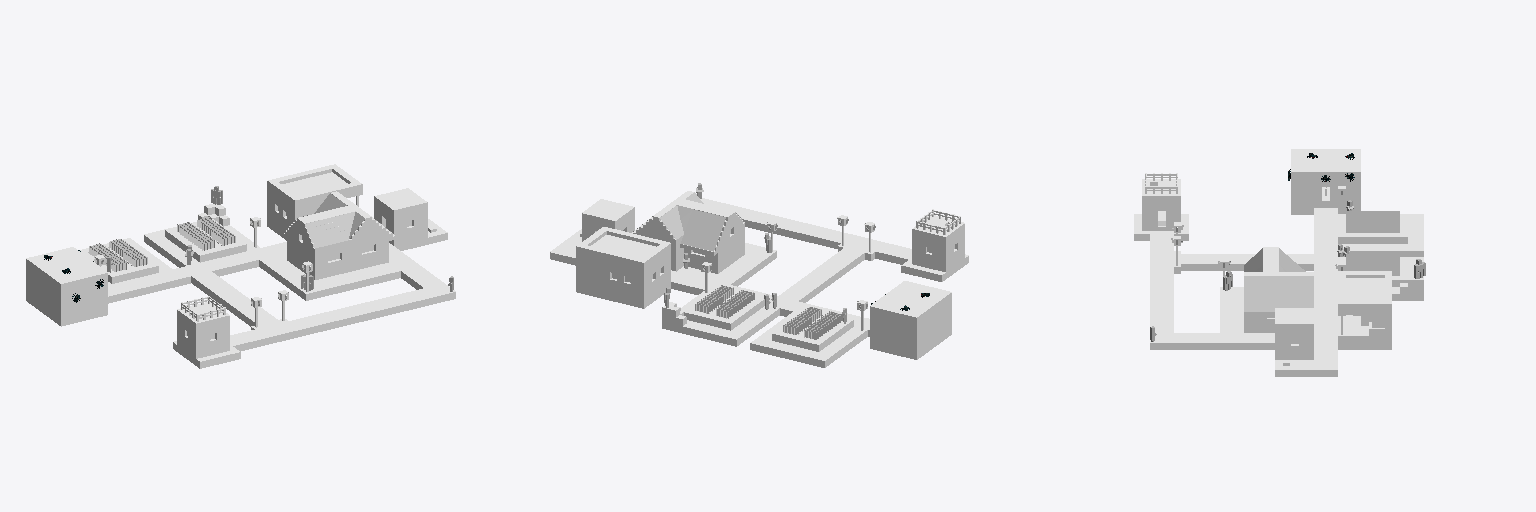
3 renders of one model, left to right at view 1: azimuth 30°, elevation 25°; view 2: azimuth 150°, elevation 25°; view 3: azimuth 270°, elevation 25°, orthographic.
Visible parts, largest first — view 1: village_pixel_New_World-------__151_3_644_to_211_319_684.001, rampa5_invis_Prostokąt.005, siano_pixel_nocol_New_World-------__151_3_644_to_211_319_684.00, siano2_pixel_nocol_New_World-------__151_3_644_to_211_319_684.0; view 2: village_pixel_New_World-------__151_3_644_to_211_319_684.001, Rampa8_invis_Prostokąt.008, siano_pixel_nocol_New_World-------__151_3_644_to_211_319_684.00, siano2_pixel_nocol_New_World-------__151_3_644_to_211_319_684.0; view 3: village_pixel_New_World-------__151_3_644_to_211_319_684.001, rampa4_invis_Prostokąt.004, siano2_pixel_nocol_New_World-------__151_3_644_to_211_319_684.0, siano_pixel_nocol_New_World-------__151_3_644_to_211_319_684.00.
Boxes of the visible parts, <box> form: village_pixel_New_World-------__151_3_644_to_211_319_684.001: <box>26,164,455,368</box>; rampa5_invis_Prostokąt.005: <box>305,211,364,247</box>; siano_pixel_nocol_New_World-------__151_3_644_to_211_319_684.00: <box>177,217,235,250</box>; siano2_pixel_nocol_New_World-------__151_3_644_to_211_319_684.0: <box>89,239,147,271</box>; village_pixel_New_World-------__151_3_644_to_211_319_684.001: <box>550,191,968,367</box>; Rampa8_invis_Prostokąt.008: <box>681,209,725,251</box>; siano_pixel_nocol_New_World-------__151_3_644_to_211_319_684.00: <box>695,285,754,318</box>; siano2_pixel_nocol_New_World-------__151_3_644_to_211_319_684.0: <box>783,307,842,339</box>; village_pixel_New_World-------__151_3_644_to_211_319_684.001: <box>1134,149,1423,376</box>; rampa4_invis_Prostokąt.004: <box>1244,276,1313,311</box>; siano2_pixel_nocol_New_World-------__151_3_644_to_211_319_684.0: <box>1346,211,1399,232</box>; siano_pixel_nocol_New_World-------__151_3_644_to_211_319_684.00: <box>1346,254,1399,275</box>.
Size of the model in its own units: 154 by 22 by 102.
6 materials, 1 textured.